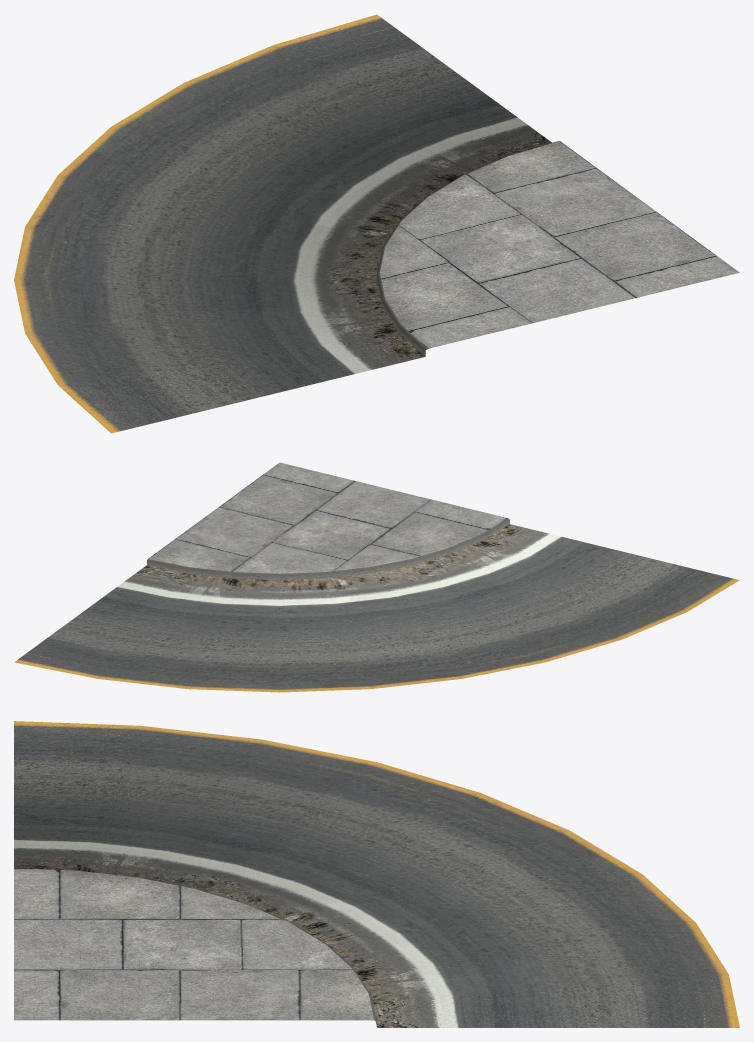
Rendered from CurveShort2.FBX.
3 views of the same model, one above another, from view 1: azimuth 30°, elevation 25°; view 2: azimuth 150°, elevation 25°; view 3: azimuth 270°, elevation 25° (orthographic). The views are drawn at different scales.
Visible parts, largest first — view 1: Plane027; view 2: Plane027; view 3: Plane027.
Boxes of the visible parts, left/top/right/bottom form: Plane027: left=14, top=14, right=739, bottom=433; Plane027: left=14, top=462, right=739, bottom=692; Plane027: left=14, top=721, right=739, bottom=1027.
Bounding box in the file's own units: 615 × 6.93 × 615.
